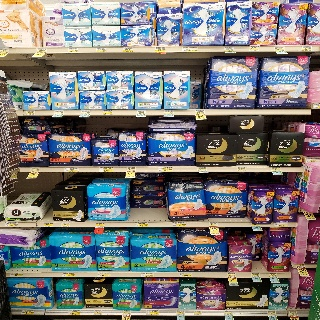All PRICE TAGS: (182, 47, 198, 52), (64, 167, 79, 172), (97, 272, 111, 277), (172, 222, 186, 227), (135, 222, 149, 227), (99, 167, 113, 172), (4, 222, 18, 227), (9, 272, 23, 277), (68, 310, 81, 315), (141, 272, 154, 277), (62, 272, 75, 277), (159, 167, 172, 172), (147, 310, 159, 315), (302, 46, 313, 51), (274, 46, 285, 51), (96, 47, 107, 52), (249, 46, 260, 51), (179, 273, 192, 277), (275, 223, 288, 227), (95, 222, 105, 227), (197, 167, 207, 172), (30, 167, 40, 172), (164, 110, 174, 115), (123, 47, 133, 52), (224, 46, 234, 51), (22, 310, 34, 314), (103, 110, 112, 115), (25, 111, 36, 115), (155, 47, 166, 51), (176, 310, 184, 315), (94, 310, 102, 315), (43, 223, 53, 227), (271, 167, 281, 171), (126, 167, 136, 171), (195, 110, 205, 114), (136, 111, 146, 115), (54, 110, 64, 114), (37, 48, 47, 52), (68, 48, 78, 52), (193, 311, 202, 315), (268, 273, 277, 277), (251, 273, 260, 277), (227, 273, 236, 277), (209, 222, 218, 226), (61, 223, 70, 227), (237, 167, 246, 171), (81, 110, 90, 114), (289, 311, 298, 315), (0, 49, 9, 53), (267, 311, 275, 315), (224, 311, 232, 315), (122, 311, 130, 315), (314, 103, 320, 108), (296, 264, 305, 267), (252, 224, 260, 227)
